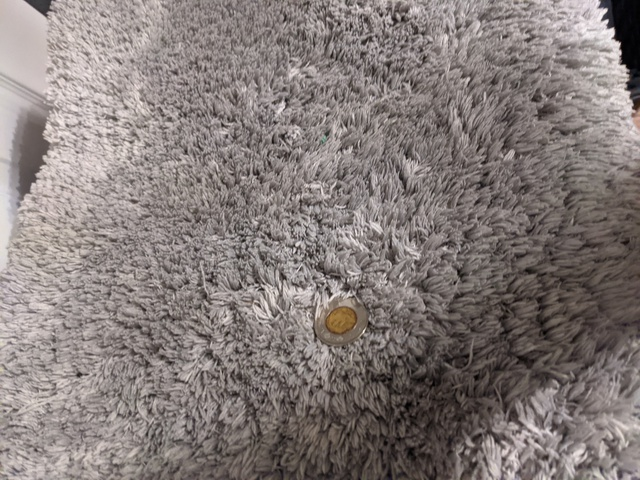twonie: (308, 287, 377, 352)
